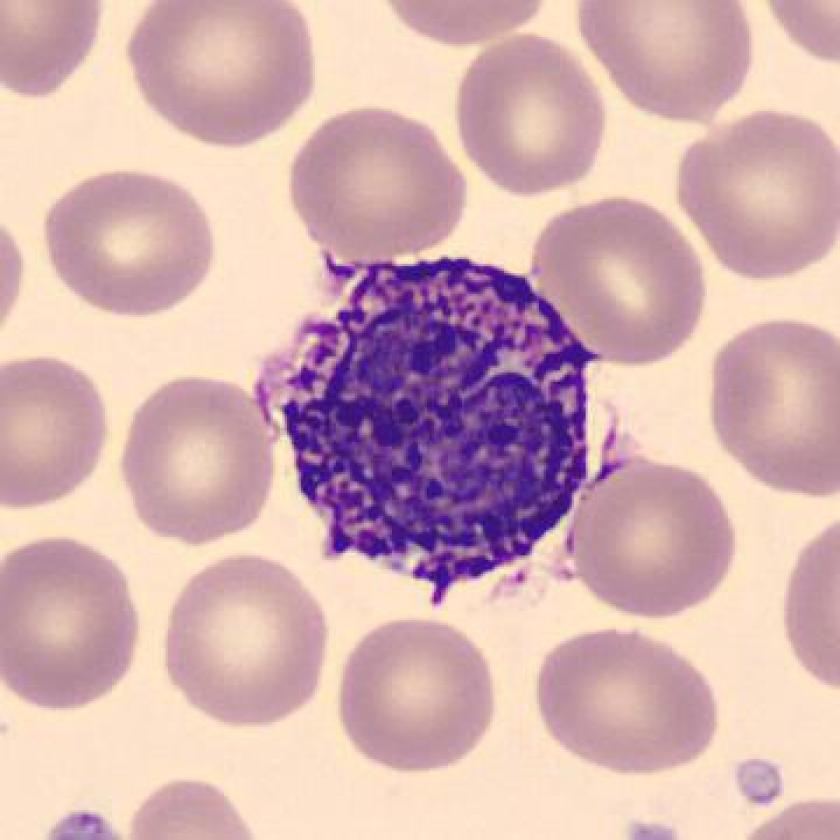basophil: (255, 244, 610, 603)
